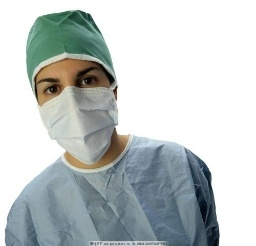correctlyWear: (33, 52, 118, 166)
